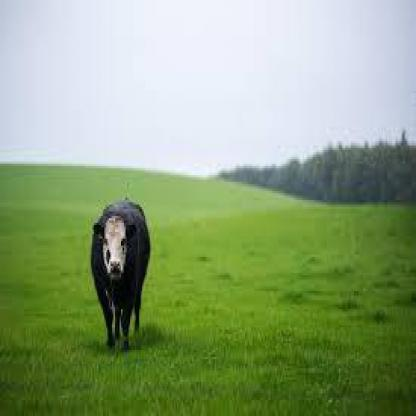cow: (91, 200, 151, 352)
